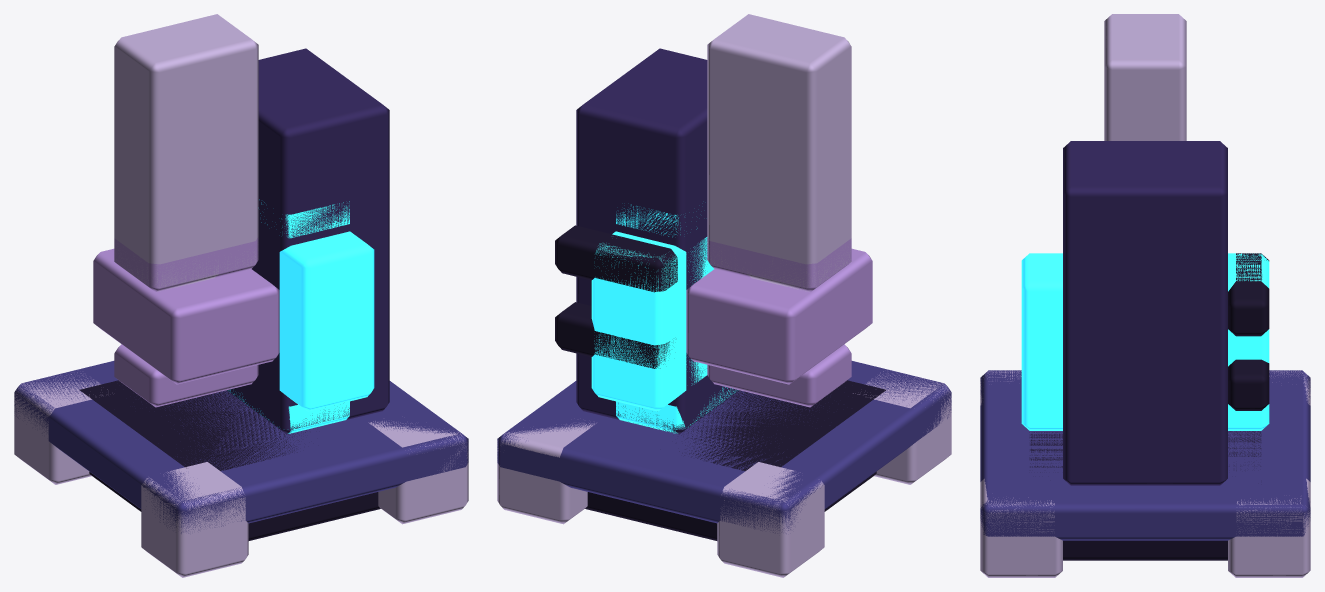
Rendered from coolant-pump.sm.glb.
The picture shows the model from 3 angles, left to right: view 1: azimuth 30°, elevation 25°; view 2: azimuth 150°, elevation 25°; view 3: azimuth 270°, elevation 25°; orthographic projection. The views are drawn at different scales.
Parts seen in each view (by area): view 1: coolant-pump.sm; view 2: coolant-pump.sm; view 3: coolant-pump.sm.
Boxes of the visible parts, x1,y1,x2,y2 form: coolant-pump.sm: [14, 14, 468, 577]; coolant-pump.sm: [497, 14, 951, 577]; coolant-pump.sm: [980, 14, 1310, 577].
Size of the model in its own units: 0.5 by 0.75 by 0.5.
